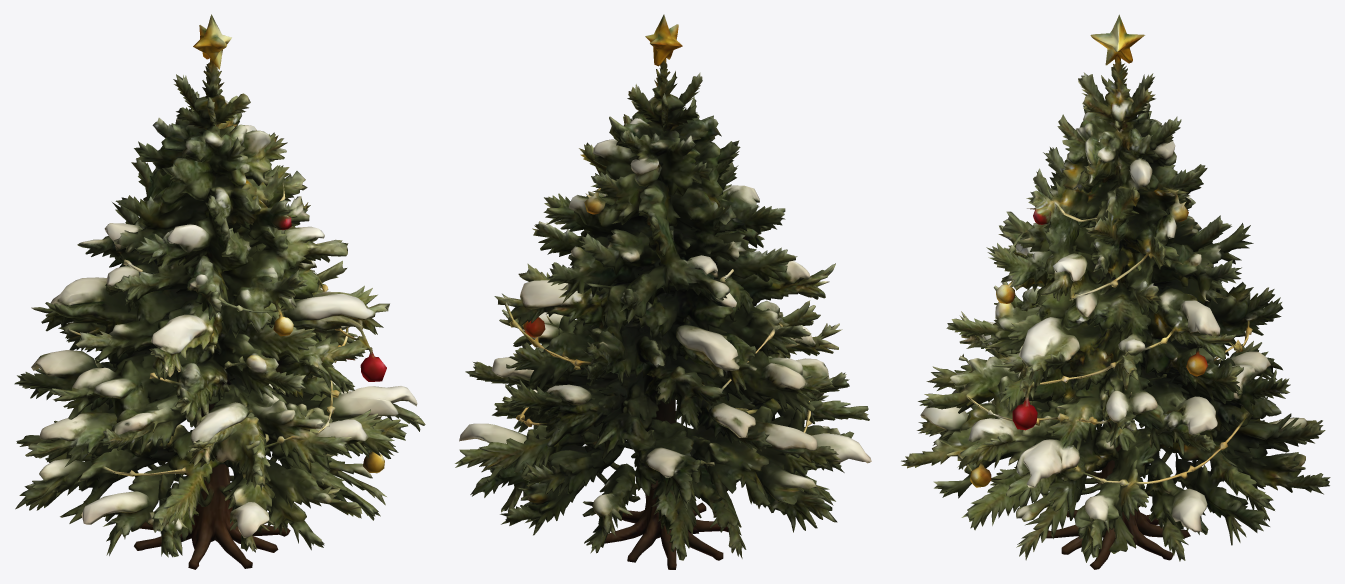
Rendered from christmas-fir-winter.glb.
3 renders of one model, left to right at view 1: azimuth 30°, elevation 25°; view 2: azimuth 150°, elevation 25°; view 3: azimuth 270°, elevation 25°, orthographic.
Parts seen in each view (by area): view 1: tripo_node_72739308-a2f6-4503-9679-672da760fc63; view 2: tripo_node_72739308-a2f6-4503-9679-672da760fc63; view 3: tripo_node_72739308-a2f6-4503-9679-672da760fc63.
Part boxes in pixels (x1,y1,x2,y2): tripo_node_72739308-a2f6-4503-9679-672da760fc63: [14, 14, 425, 569]; tripo_node_72739308-a2f6-4503-9679-672da760fc63: [455, 14, 871, 569]; tripo_node_72739308-a2f6-4503-9679-672da760fc63: [901, 14, 1330, 569].
Size of the model in its own units: 0.7154 by 0.9753 by 0.725.
Materials: 1 (1 with a texture image).
